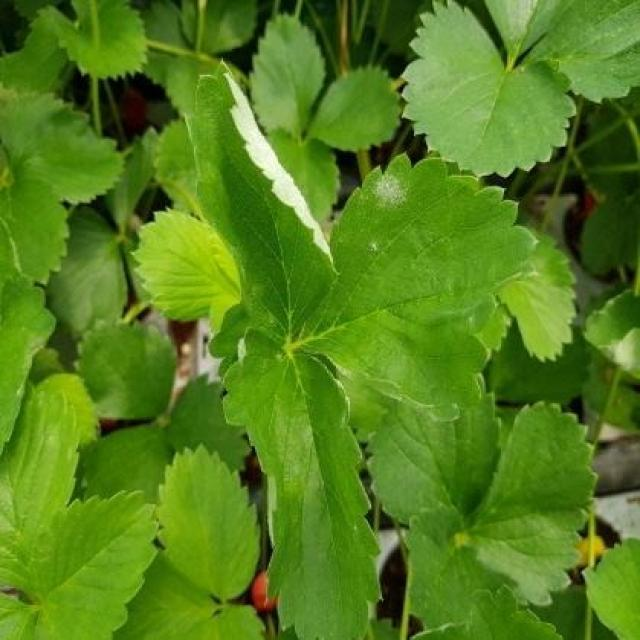powdery_mildew_leaf: (290, 152, 540, 424), (220, 326, 384, 639), (183, 59, 338, 345), (579, 290, 638, 379)
